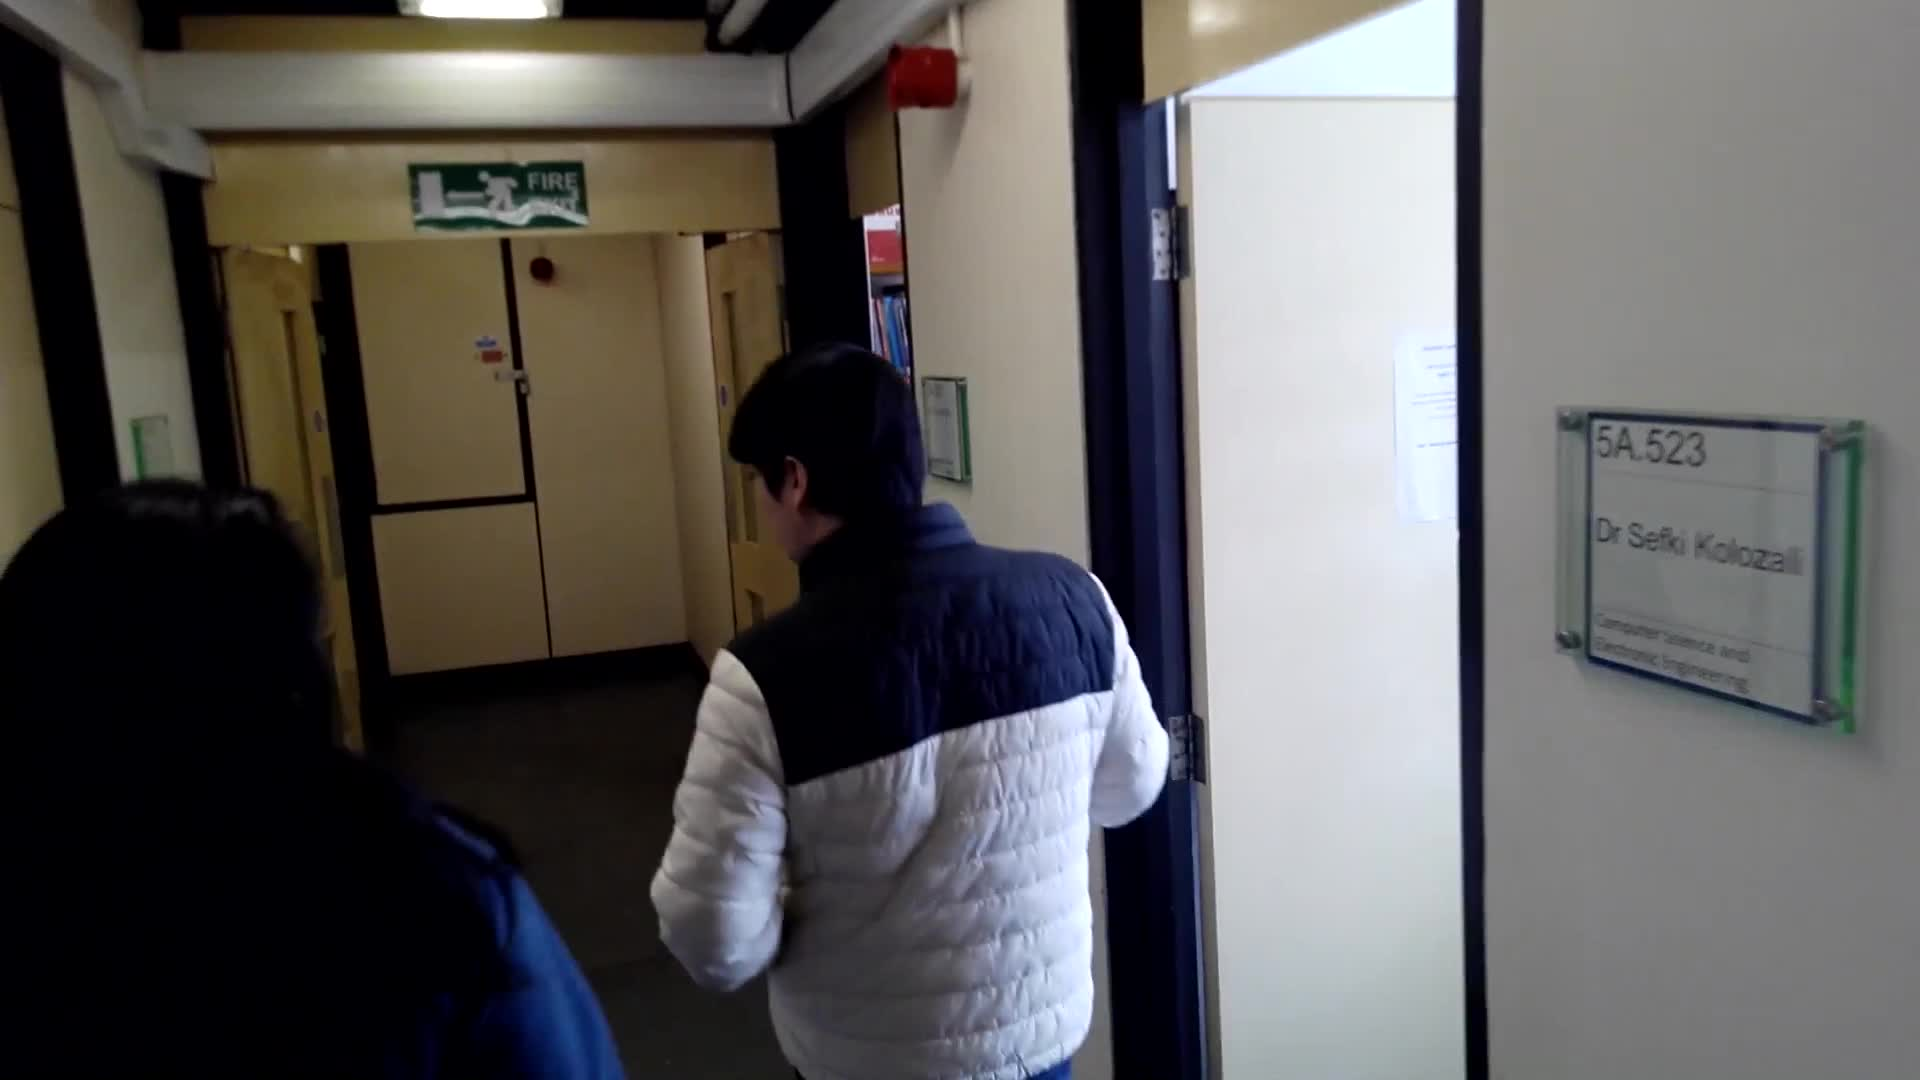Person: (5, 477, 614, 1080), (677, 338, 1162, 1061)
